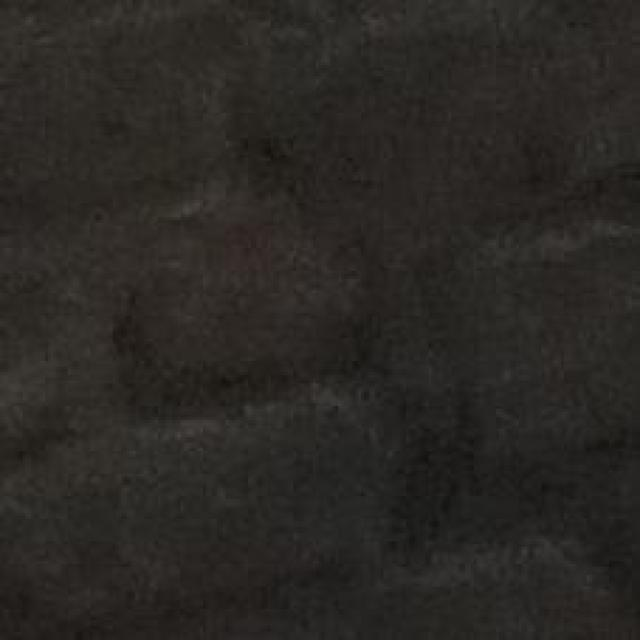Crack: (0, 107, 640, 514)
